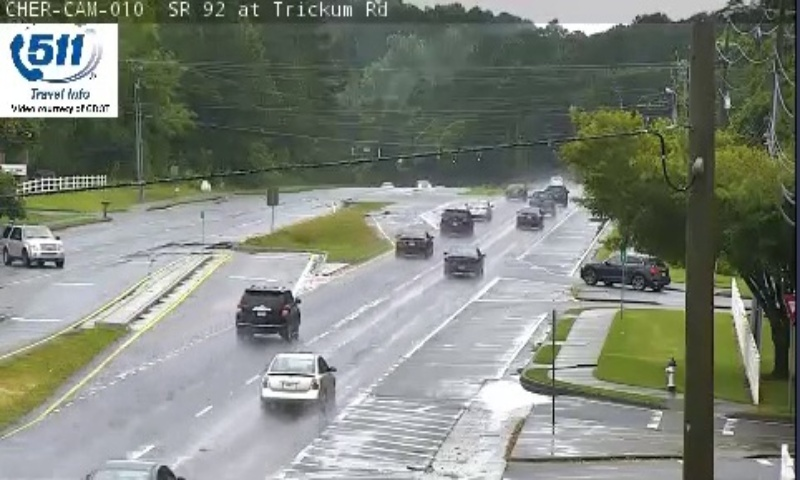car: (260, 353, 335, 407), (235, 286, 300, 335), (443, 247, 484, 276), (396, 229, 433, 258), (439, 209, 474, 234), (527, 191, 556, 214), (515, 207, 543, 229), (464, 198, 491, 220)
